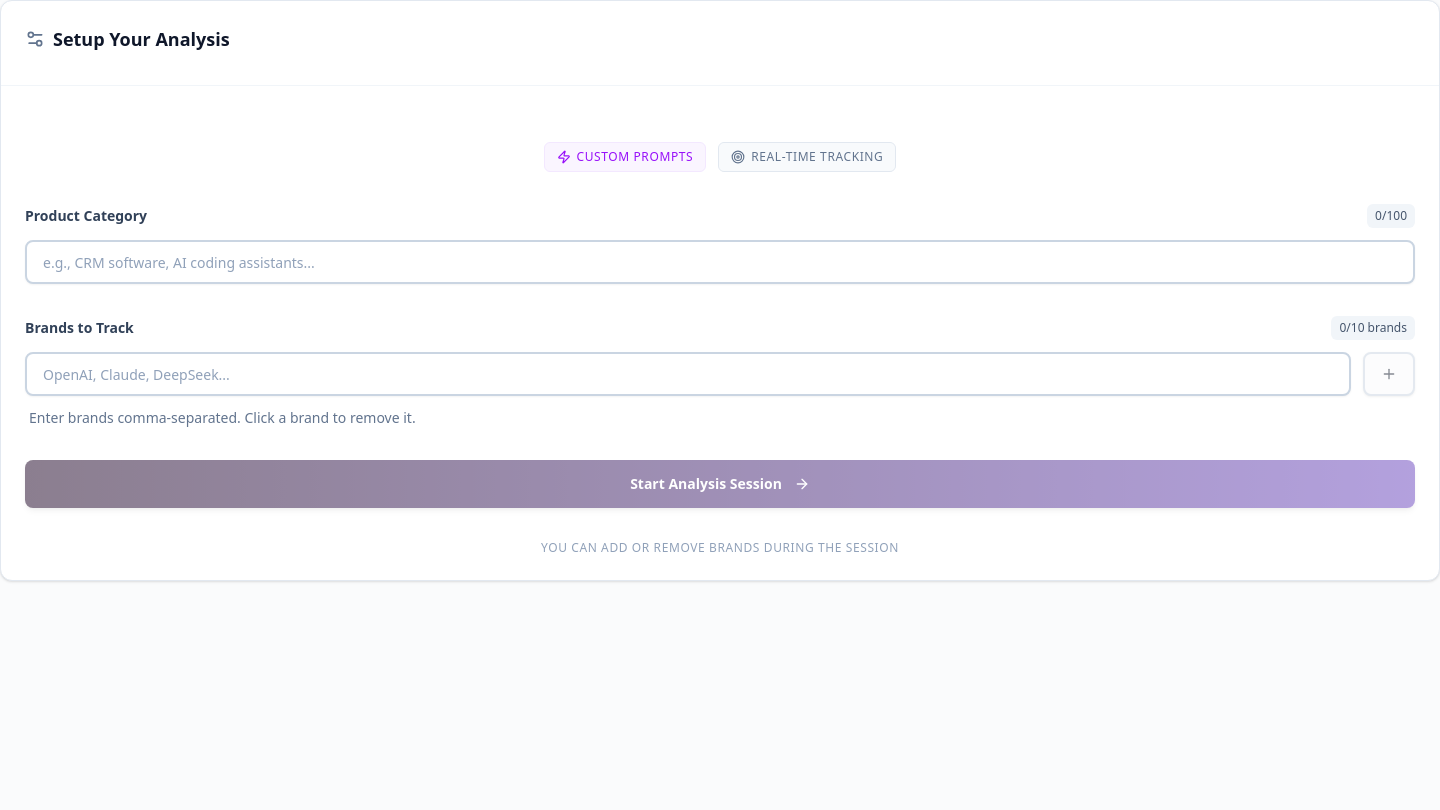
it: SessionSetup - extended coverage › brand management › adds brand on Enter key
Type "NewBrand" into the field with placeholder "OpenAI, Claude, DeepSeek..." at (688, 374), box x1=25 y1=352 x2=1351 y2=396
Then press Enter
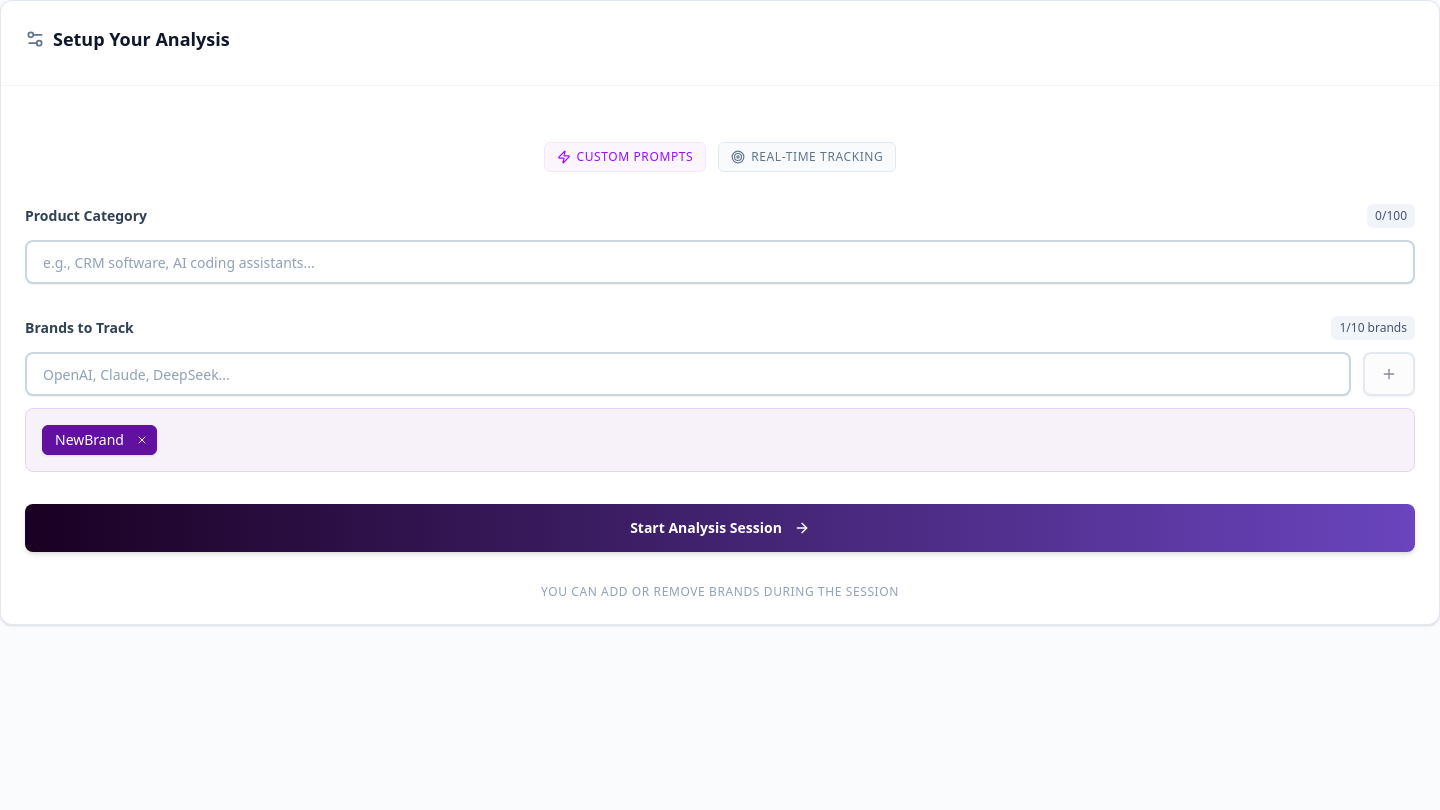
Result: the text "NewBrand" is shown at x1=42 y1=425 x2=157 y2=455
